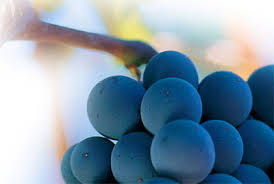Black grapes: (69, 51, 271, 182)
